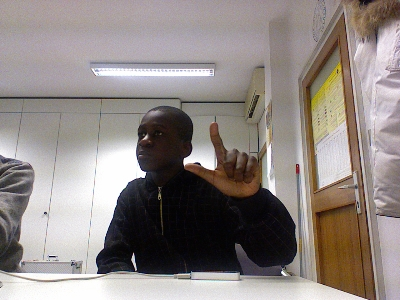枪: (182, 119, 262, 200)
